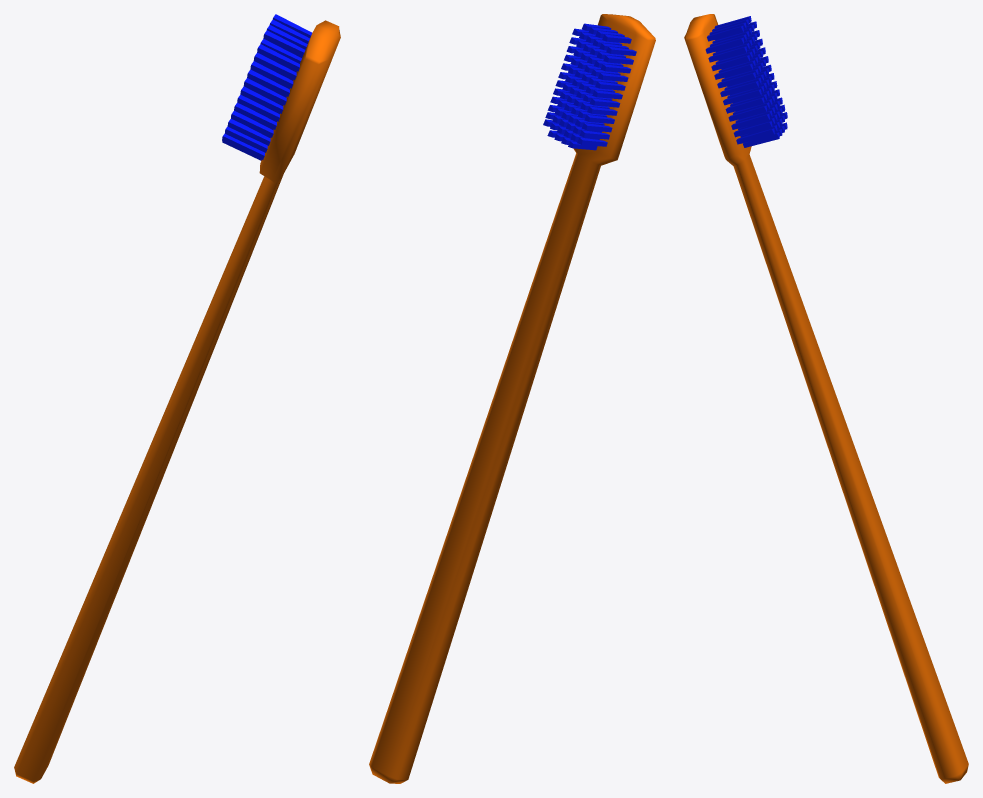
Rendered from Toothbrush.fbx.
3 views of the same model, side by side, from view 1: azimuth 90°, elevation 25°; view 2: azimuth 150°, elevation 25°; view 3: azimuth 270°, elevation 25° (orthographic). The views are drawn at different scales.
Visible parts, largest first — view 1: Toothbrush; view 2: Toothbrush; view 3: Toothbrush.
Boxes of the visible parts, x1,y1,x2,y2 form: Toothbrush: [14, 14, 340, 783]; Toothbrush: [369, 14, 655, 783]; Toothbrush: [684, 14, 968, 783].
Bounding box in the file's own units: 3.55 × 14.75 × 5.36.
